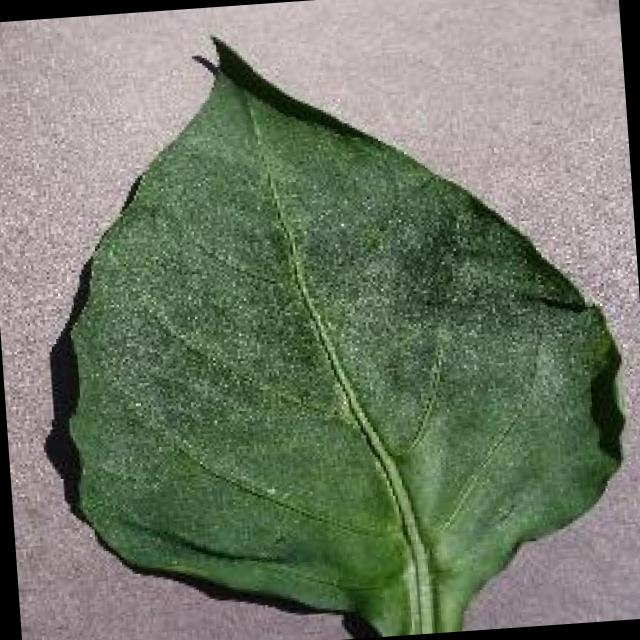Chilli_Healthy: (32, 4, 640, 640)
